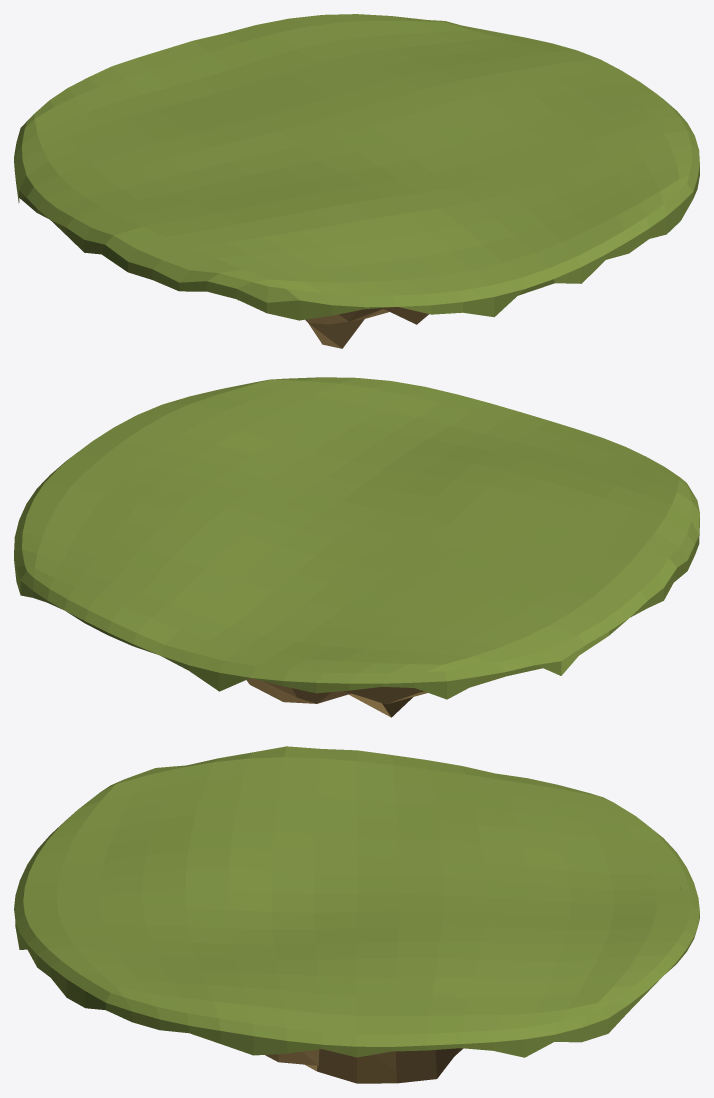
Rendered from platforme_moyen2.fbx.
3 renders of one model, top to bottom at view 1: azimuth 30°, elevation 25°; view 2: azimuth 150°, elevation 25°; view 3: azimuth 270°, elevation 25°, orthographic. The views are drawn at different scales.
Visible parts, largest first — view 1: Plane.001; view 2: Plane.001; view 3: Plane.001.
Part boxes in pixels (box(x1,y1,x2,y2)): Plane.001: box(14, 14, 699, 348); Plane.001: box(14, 377, 699, 717); Plane.001: box(14, 746, 699, 1083).
Size of the model in its own units: 663 by 216 by 663.
